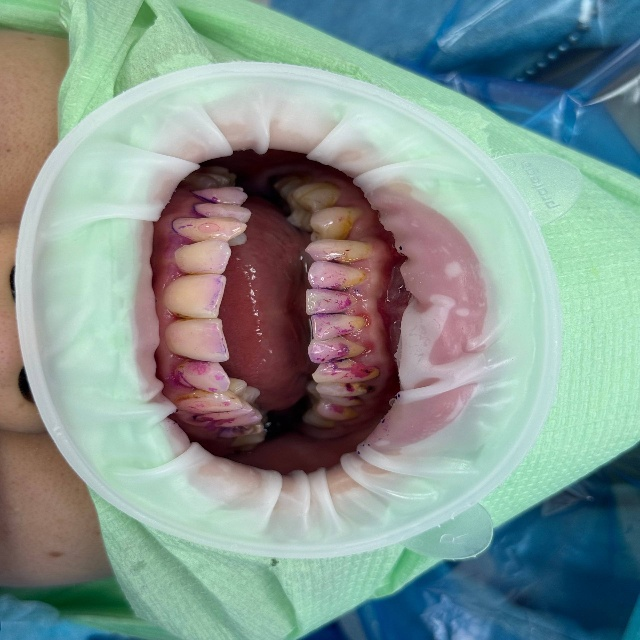clean_tooth: (15, 487, 79, 545), (173, 279, 206, 316)
plaque: (268, 0, 639, 169), (305, 477, 639, 639), (0, 617, 40, 639)
